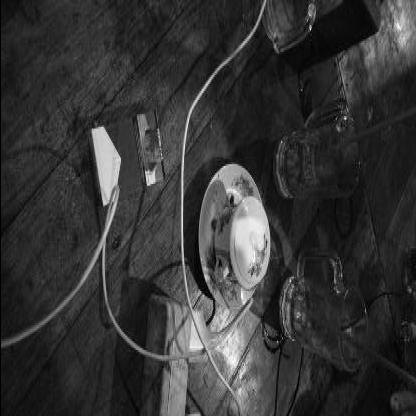objects: (86, 111, 162, 207)
